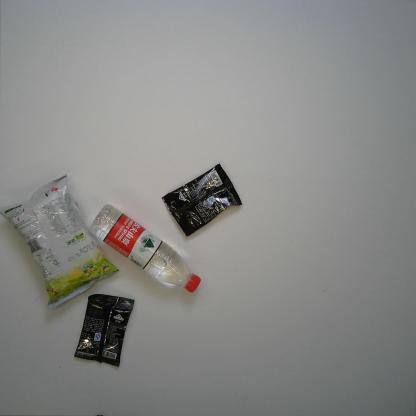Drink: (88, 204, 202, 294)
Instant Drink: (161, 162, 243, 238), (73, 293, 135, 368)
Puffed Food: (0, 172, 120, 310)
